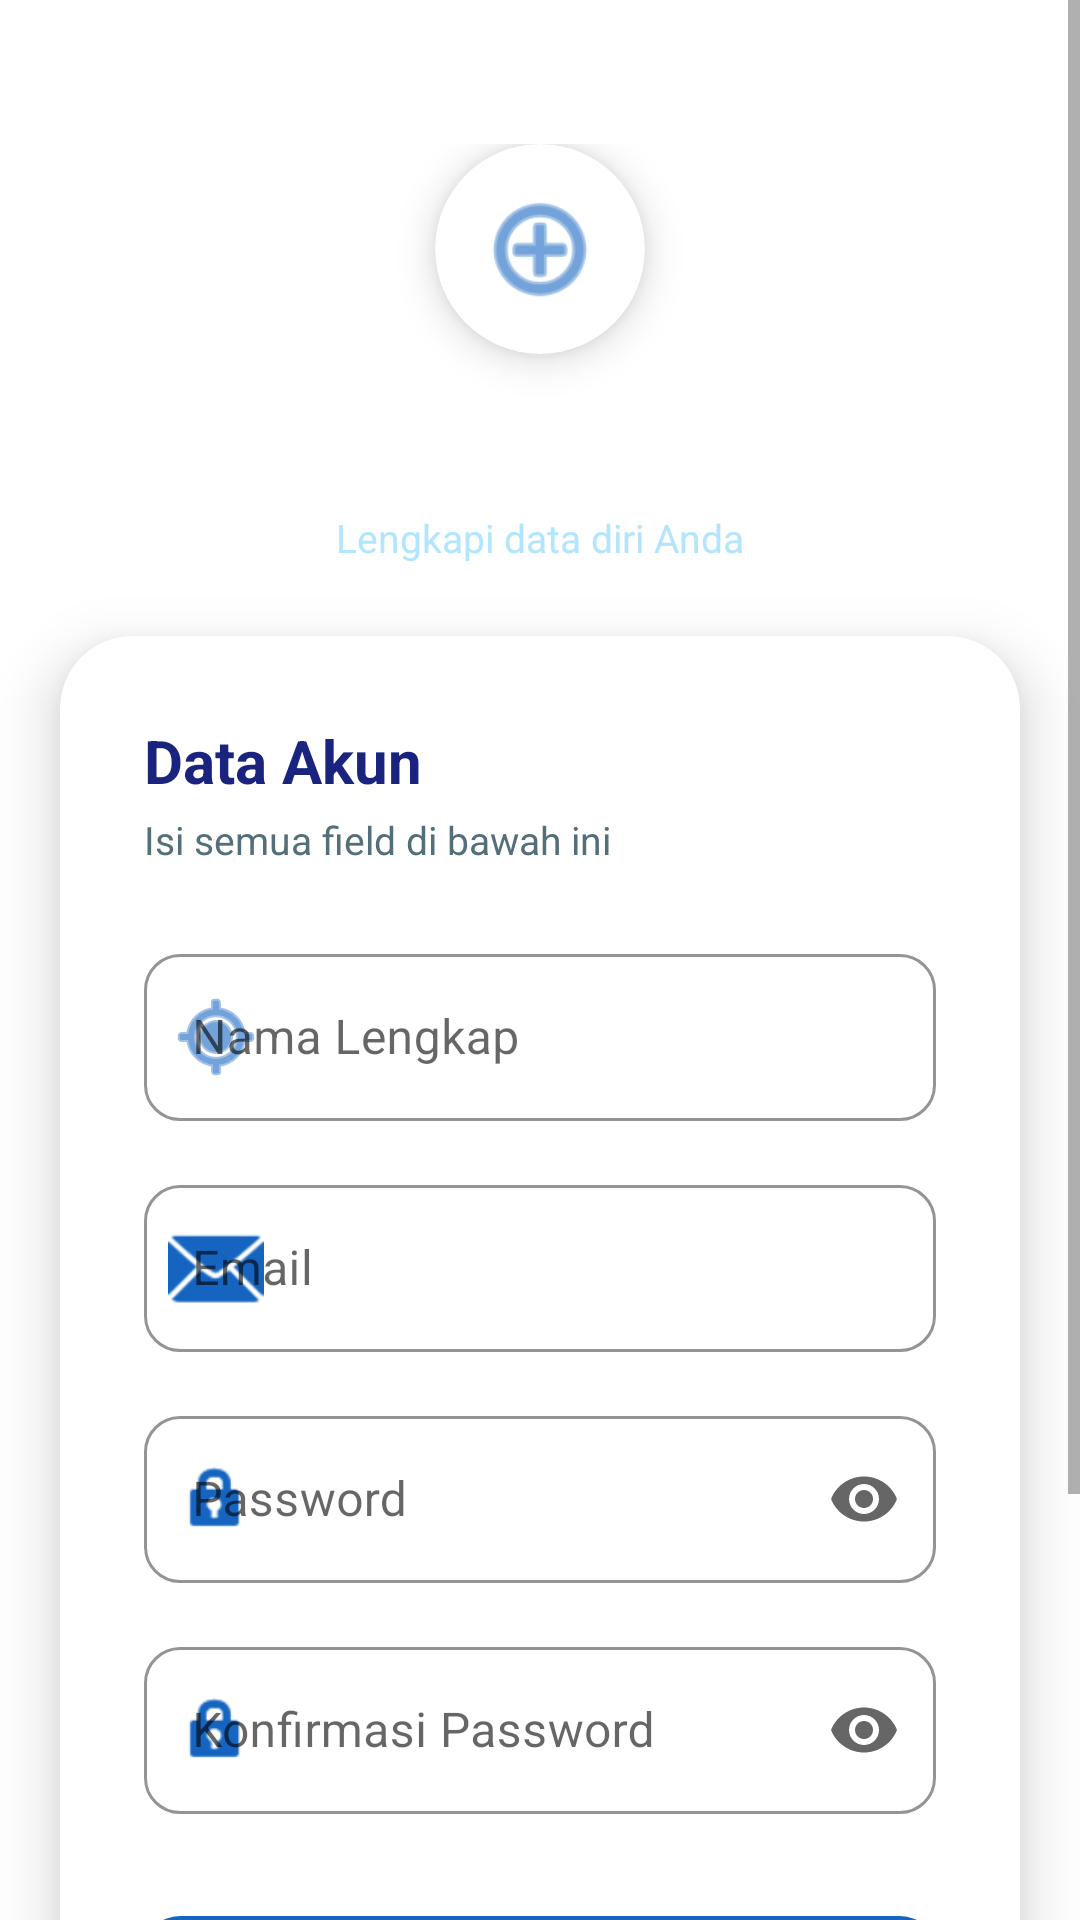

Named icons in this screenshot (1080x1920) and their bounding boxes, (x1, y1, x2, y2):
add: (493, 203, 587, 297)
